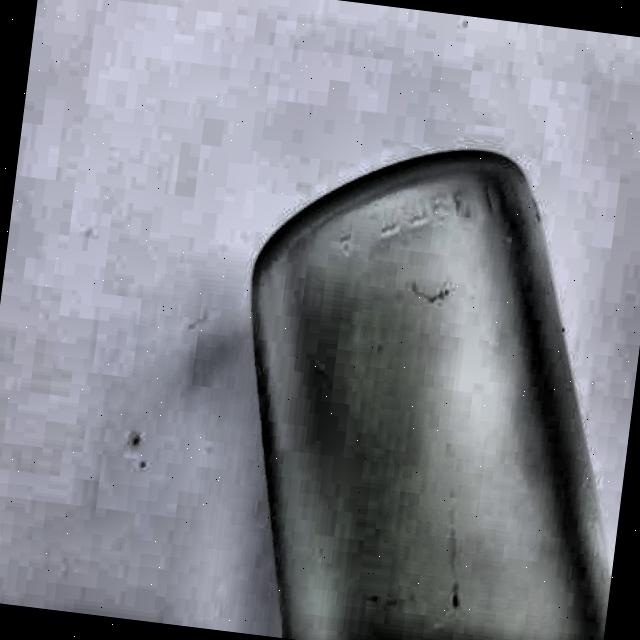glass: (205, 119, 640, 640)
